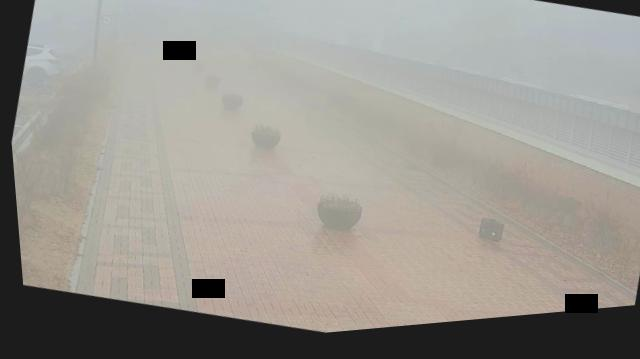bag: (468, 223, 501, 254)
